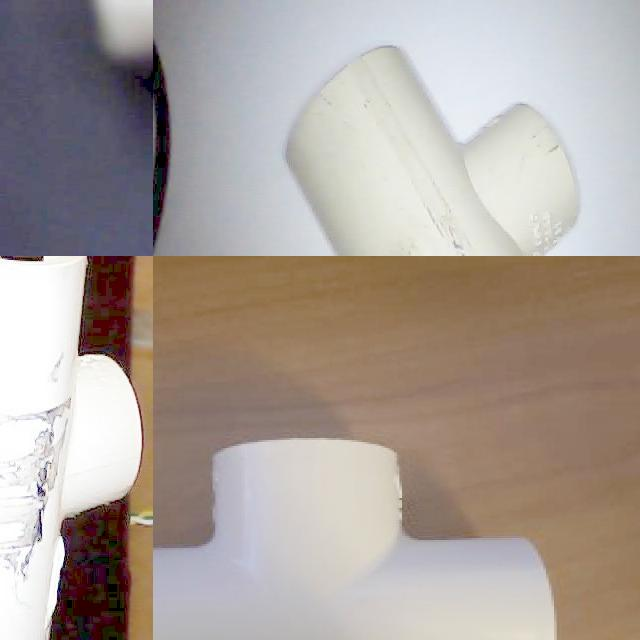Defective: (0, 380, 59, 579), (416, 160, 478, 256), (0, 256, 72, 319), (40, 516, 66, 640)
T Joint: (153, 438, 557, 640), (284, 45, 582, 256)
